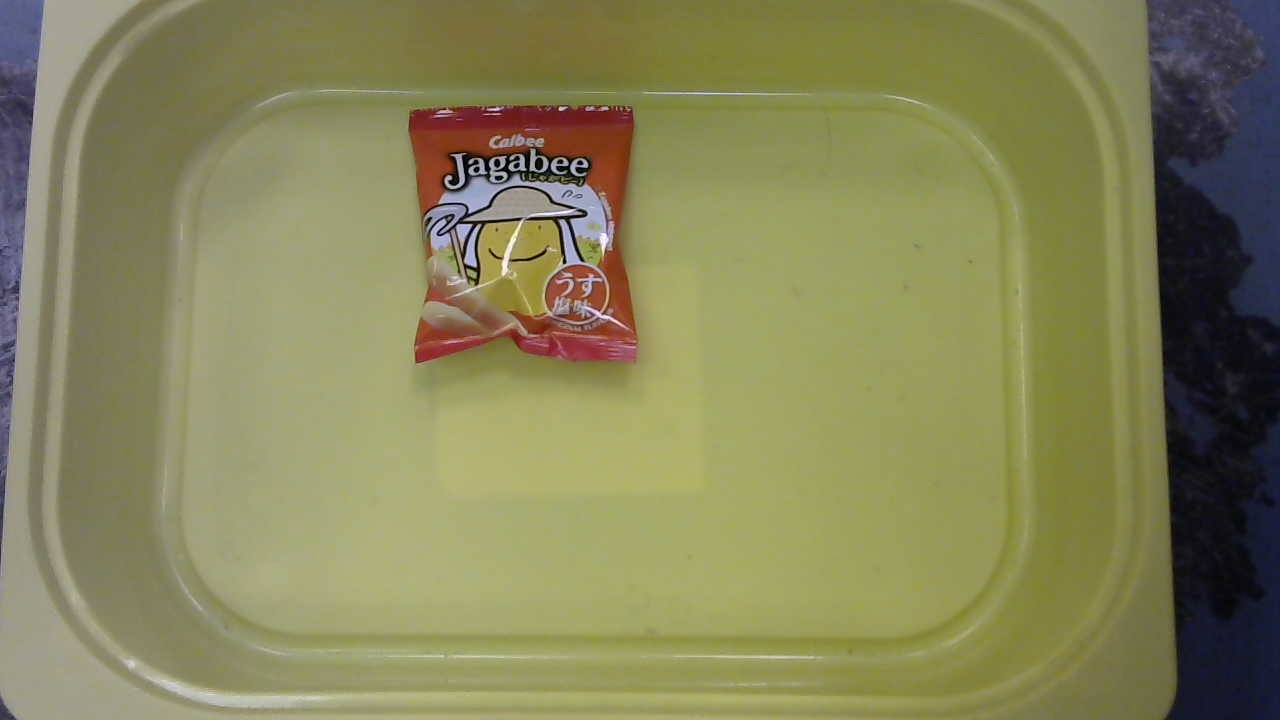JagabeeFarmer: (392, 100, 651, 374)
